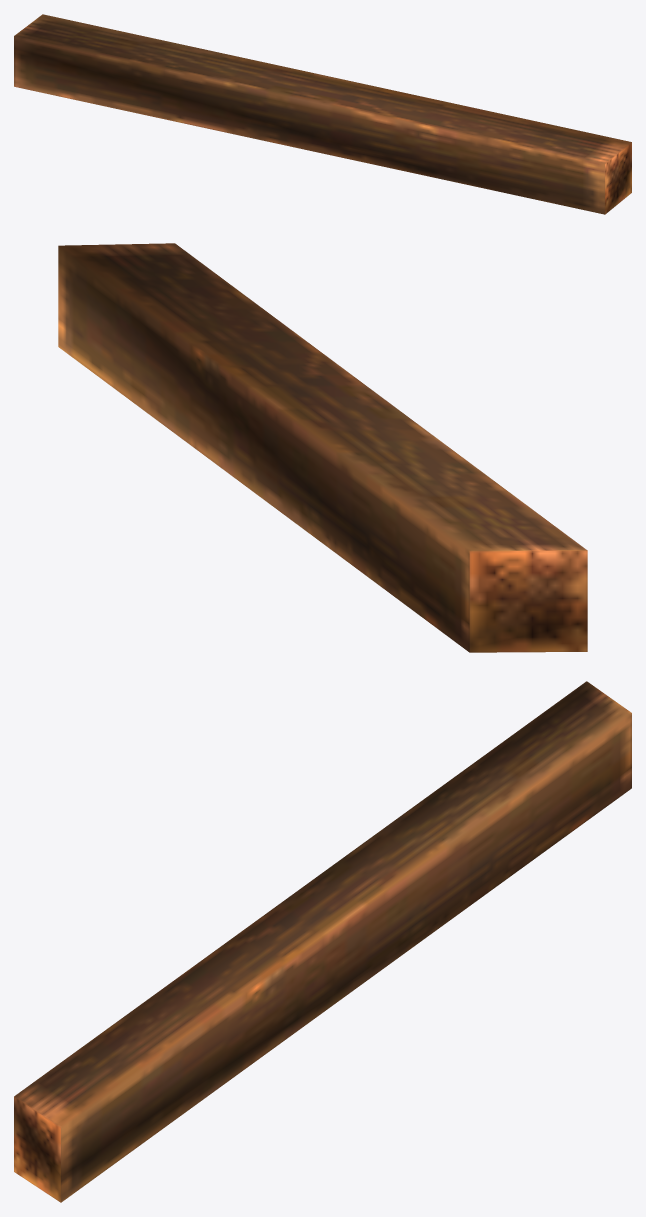
Rendered from SWORDLIGHT20_JAILBRACE11.fbx.
3 views of the same model, one above another, from view 1: azimuth 30°, elevation 25°; view 2: azimuth 150°, elevation 25°; view 3: azimuth 270°, elevation 25° (orthographic). The views are drawn at different scales.
Visible parts, largest first — view 1: SWORDLIGHT20_JAILBRACE11; view 2: SWORDLIGHT20_JAILBRACE11; view 3: SWORDLIGHT20_JAILBRACE11.
Boxes of the visible parts, <box> form: SWORDLIGHT20_JAILBRACE11: <box>14,14,631,214</box>; SWORDLIGHT20_JAILBRACE11: <box>58,243,587,652</box>; SWORDLIGHT20_JAILBRACE11: <box>14,681,631,1202</box>.
Bounding box in the file's own units: 36502 × 10675 × 29733.
Materials: 1 (1 with a texture image).
